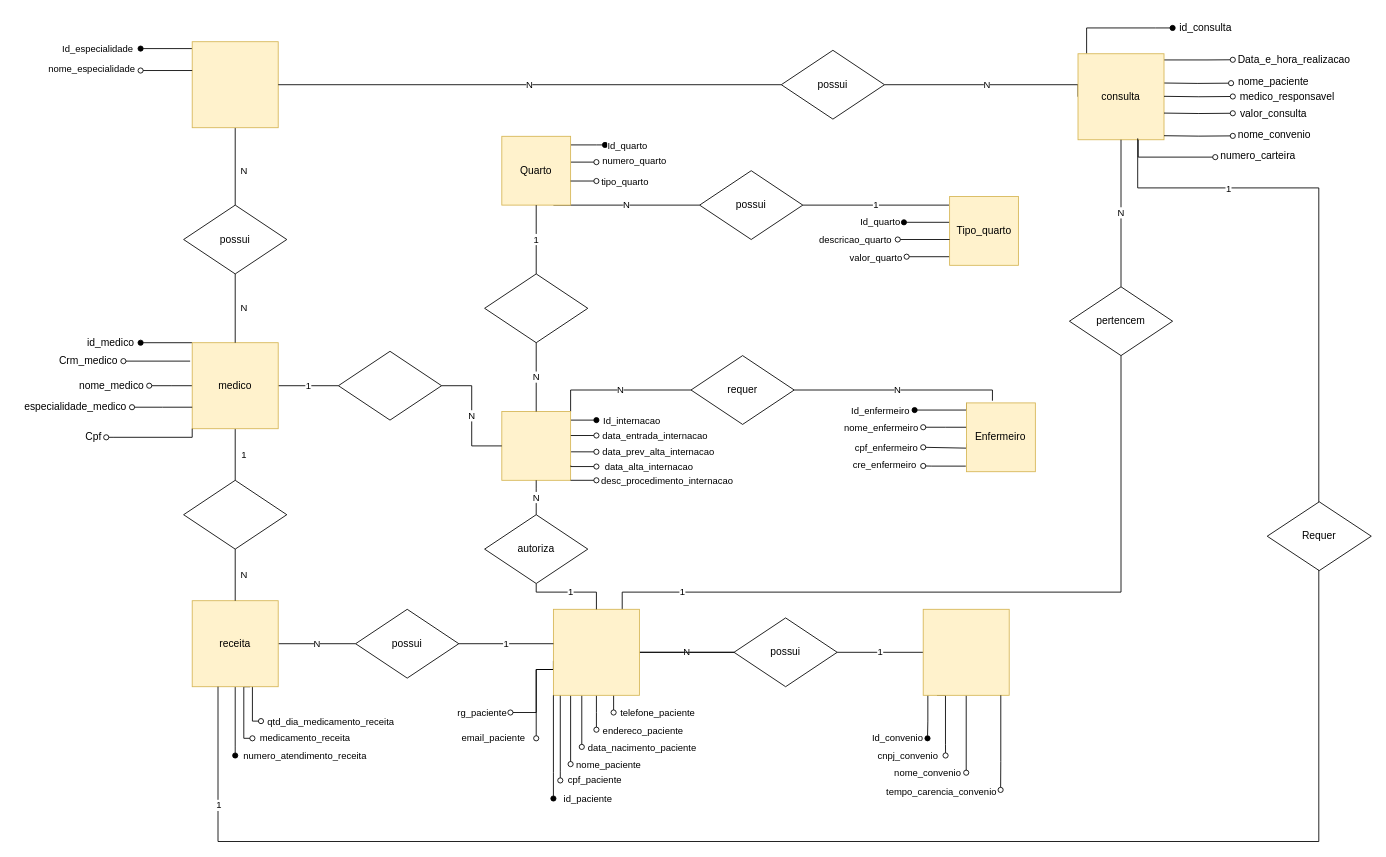
Some shapes in this 1386 by 857 pixel diagram are drawn without their labels. Here are the shapes that lost their labels. From the top down, the centre of each, then its label:
At (x=234, y=84): "especialidade".
At (x=536, y=308): "ocupa".
At (x=390, y=385): "solicita".
At (x=536, y=445): "Internacao".
At (x=235, y=514): "registra".
At (x=596, y=651): "paciente".
At (x=965, y=651): "convenio".
